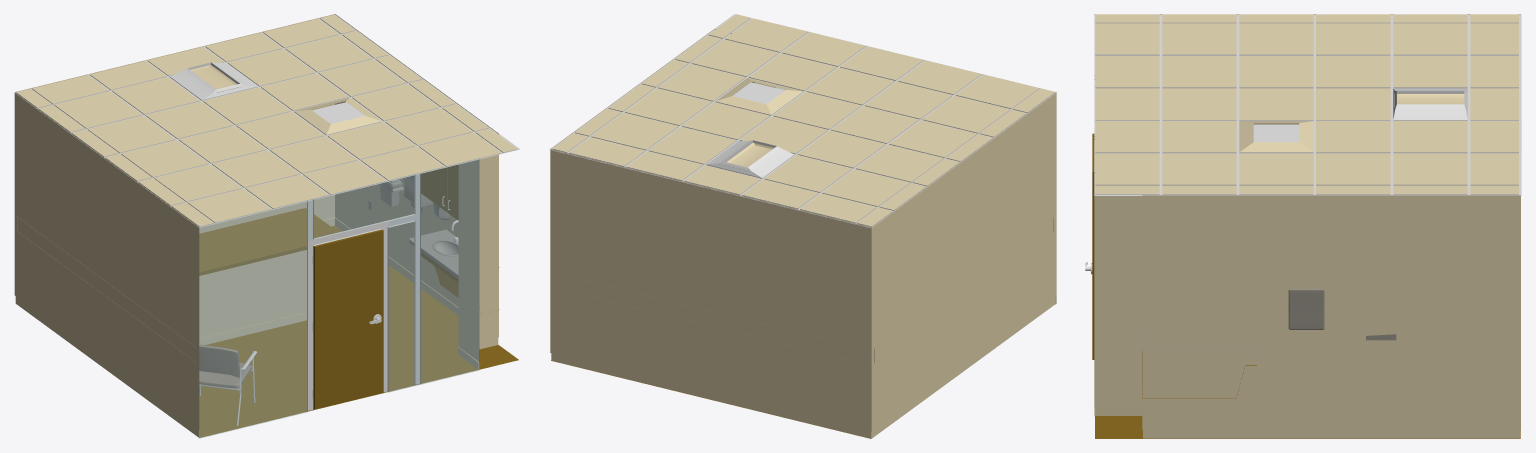
File: Med_Closet.fbx
3 views of the same model, side by side, from view 1: azimuth 30°, elevation 25°; view 2: azimuth 150°, elevation 25°; view 3: azimuth 270°, elevation 25° (orthographic). The views are drawn at different scales.
Parts seen in each view (by area): view 1: Walls, Ceiling, Glass, Floor, Counter, Door_Entrance, Chair1, Sink, Board (×2), Sharps_Container; view 2: Walls, Ceiling; view 3: Walls, Ceiling, Base, Floor, Door_Entrance.
Boxes of the visible parts, x1,y1,x2,y2 form: Walls: (14,14,498,437); Ceiling: (15,14,520,227); Glass: (199,159,478,438); Floor: (199,225,518,437); Counter: (199,208,338,344); Door_Entrance: (314,229,383,409); Chair1: (199,344,256,425); Sink: (409,220,499,309); Board (×2): (421,165,458,220); Sharps_Container: (380,179,403,206); Walls: (550,29,1056,438); Ceiling: (549,14,1055,228); Walls: (1094,14,1520,438); Ceiling: (1094,14,1521,195); Base: (1288,289,1324,329); Floor: (1095,415,1520,438); Door_Entrance: (1085,133,1094,359).
Bounding box in the file's own units: 14.22 × 9.2 × 14.45.
